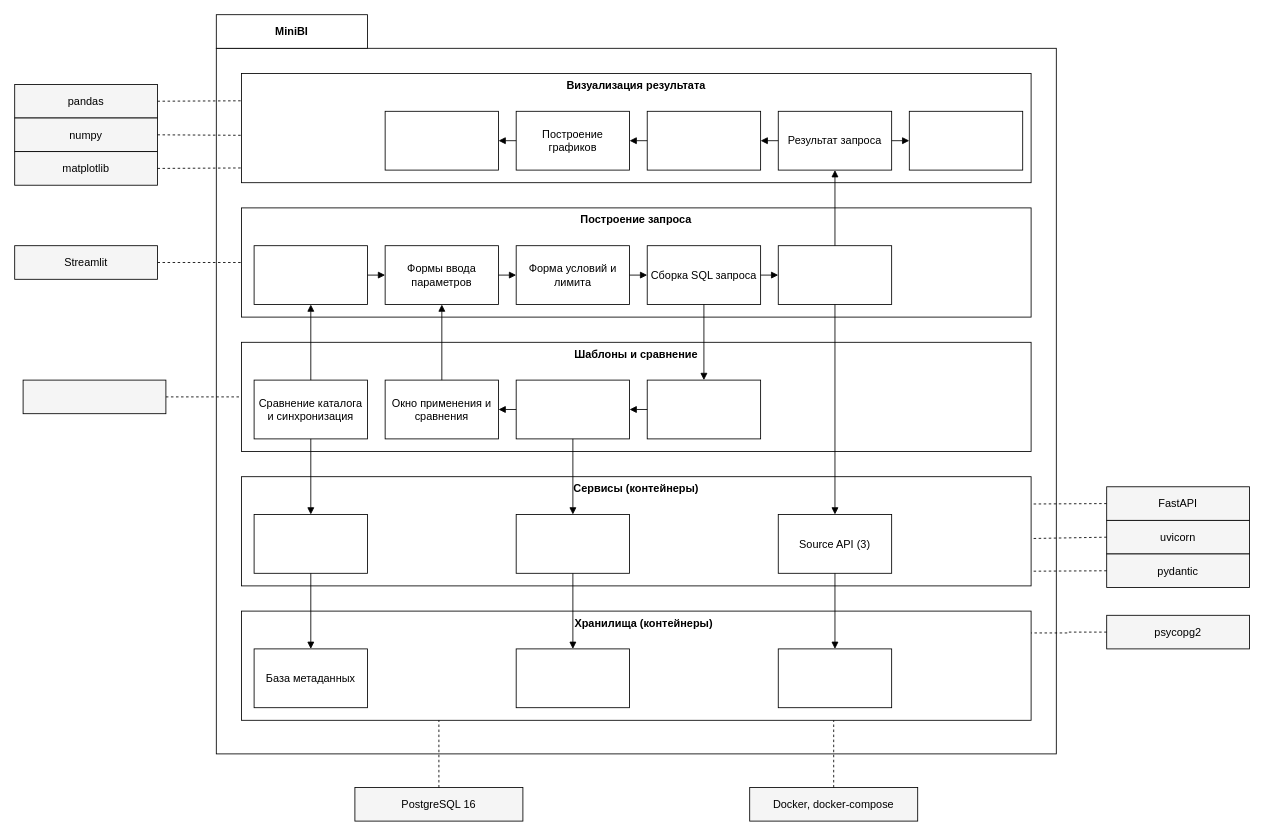
The diagram is 1264 pixels wide and 836 high, and some of its shapes have lost their labels. The shapes that lost their labels are listed below. From the top down, each one's centre as x and y in pixels, then its label:
At (441,140): "Вывод графика".
At (703,140): "Перевод в массивы".
At (965,140): "Вывод таблиц".
At (310,274): "Каталог метаданных".
At (834,274): "Выполнение запроса".
At (94,396): "requests".
At (572,409): "Клиент шаблонов".
At (703,409): "Окно сохранения шаблона".
At (310,543): "Meta API".
At (572,543): "Templates API".
At (572,678): "База шаблонов".
At (834,678): "Базы источники (3)".
